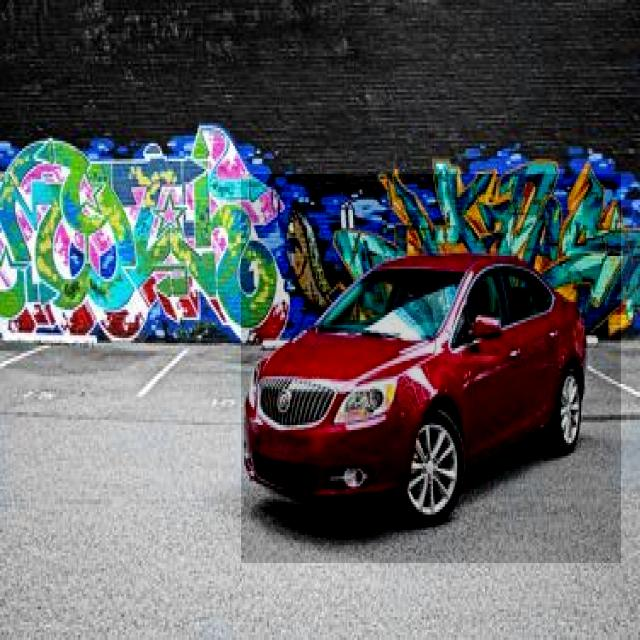Car: (242, 174, 622, 563)
